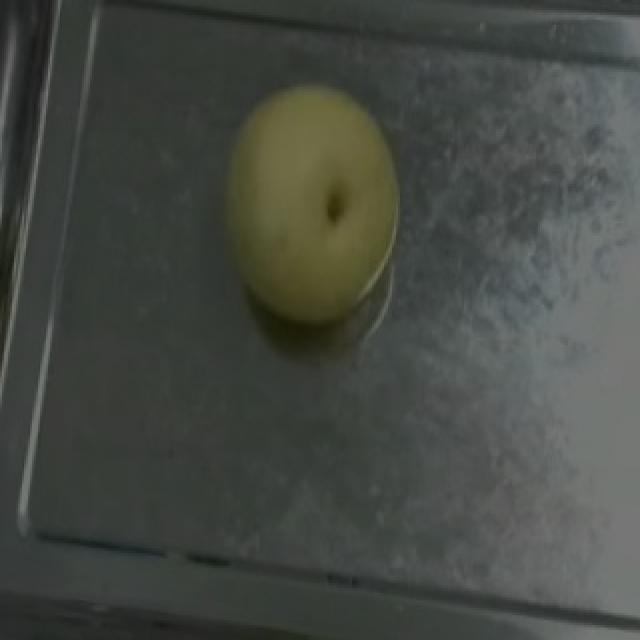Fruit: (194, 67, 416, 345)
